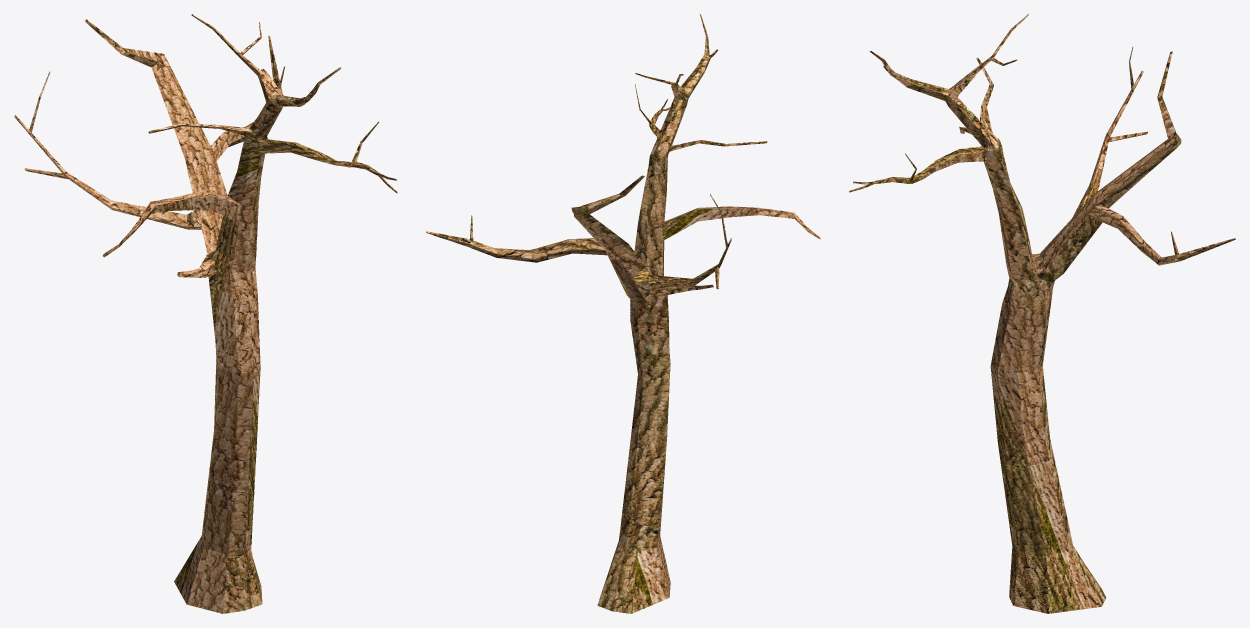
Rendered from tree trunk2.fbx.
3 views of the same model, side by side, from view 1: azimuth 30°, elevation 25°; view 2: azimuth 150°, elevation 25°; view 3: azimuth 270°, elevation 25° (orthographic). The views are drawn at different scales.
Parts seen in each view (by area): view 1: tree; view 2: tree; view 3: tree.
Part boxes in pixels (bbox=[...]): tree: bbox=[14, 14, 397, 613]; tree: bbox=[426, 14, 820, 613]; tree: bbox=[849, 14, 1235, 613].
Size of the model in its own units: 479 by 883 by 548.
1 material, 1 textured.
